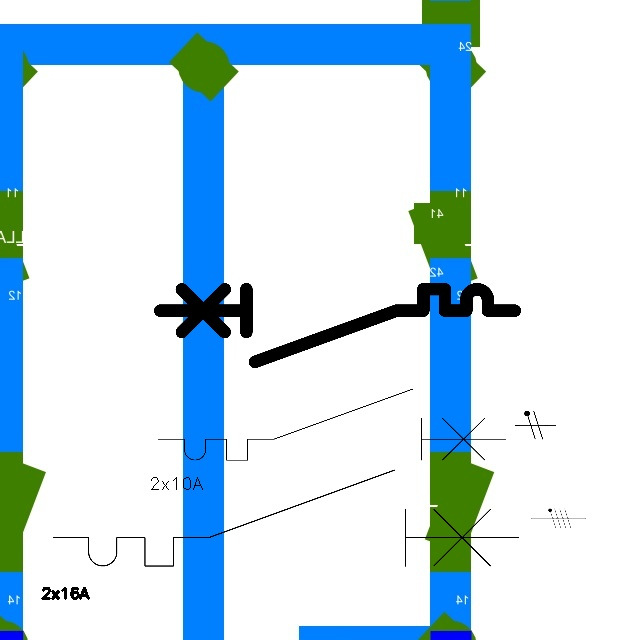interruptor_termomagnetico: (41, 458, 530, 578), (151, 280, 524, 371), (149, 380, 515, 469)
